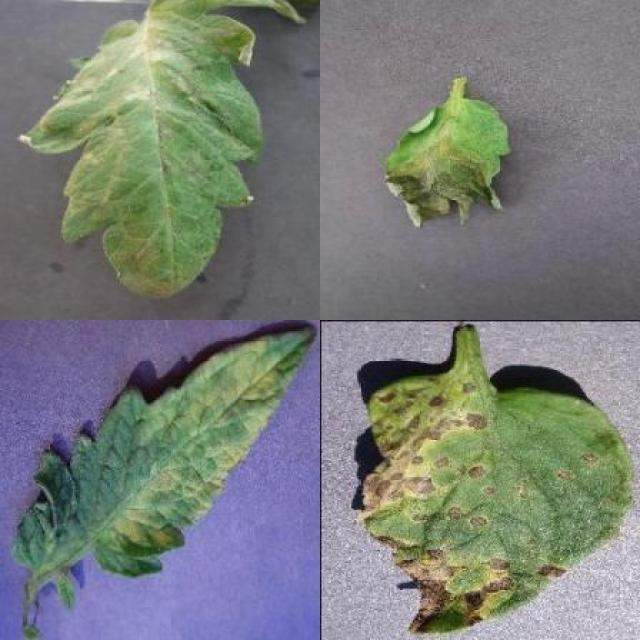Late Blight: (14, 0, 306, 301), (387, 95, 512, 228)
Leaf Mold: (15, 325, 318, 579)
Septoria: (362, 372, 632, 634)
